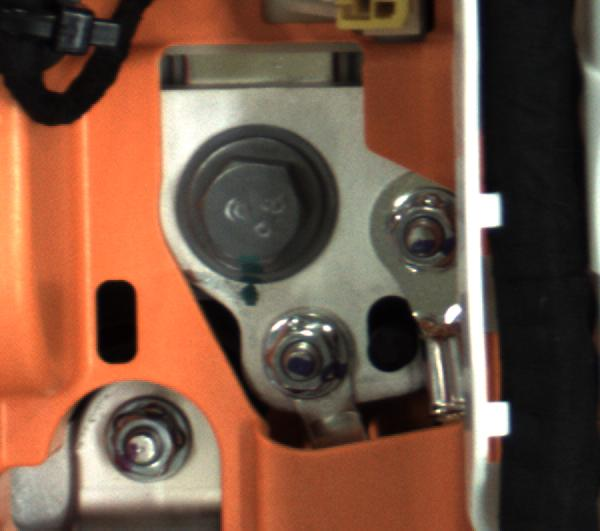nut_b: (163, 120, 348, 297)
screw_s: (96, 396, 211, 483), (257, 313, 344, 417), (387, 197, 459, 275)
